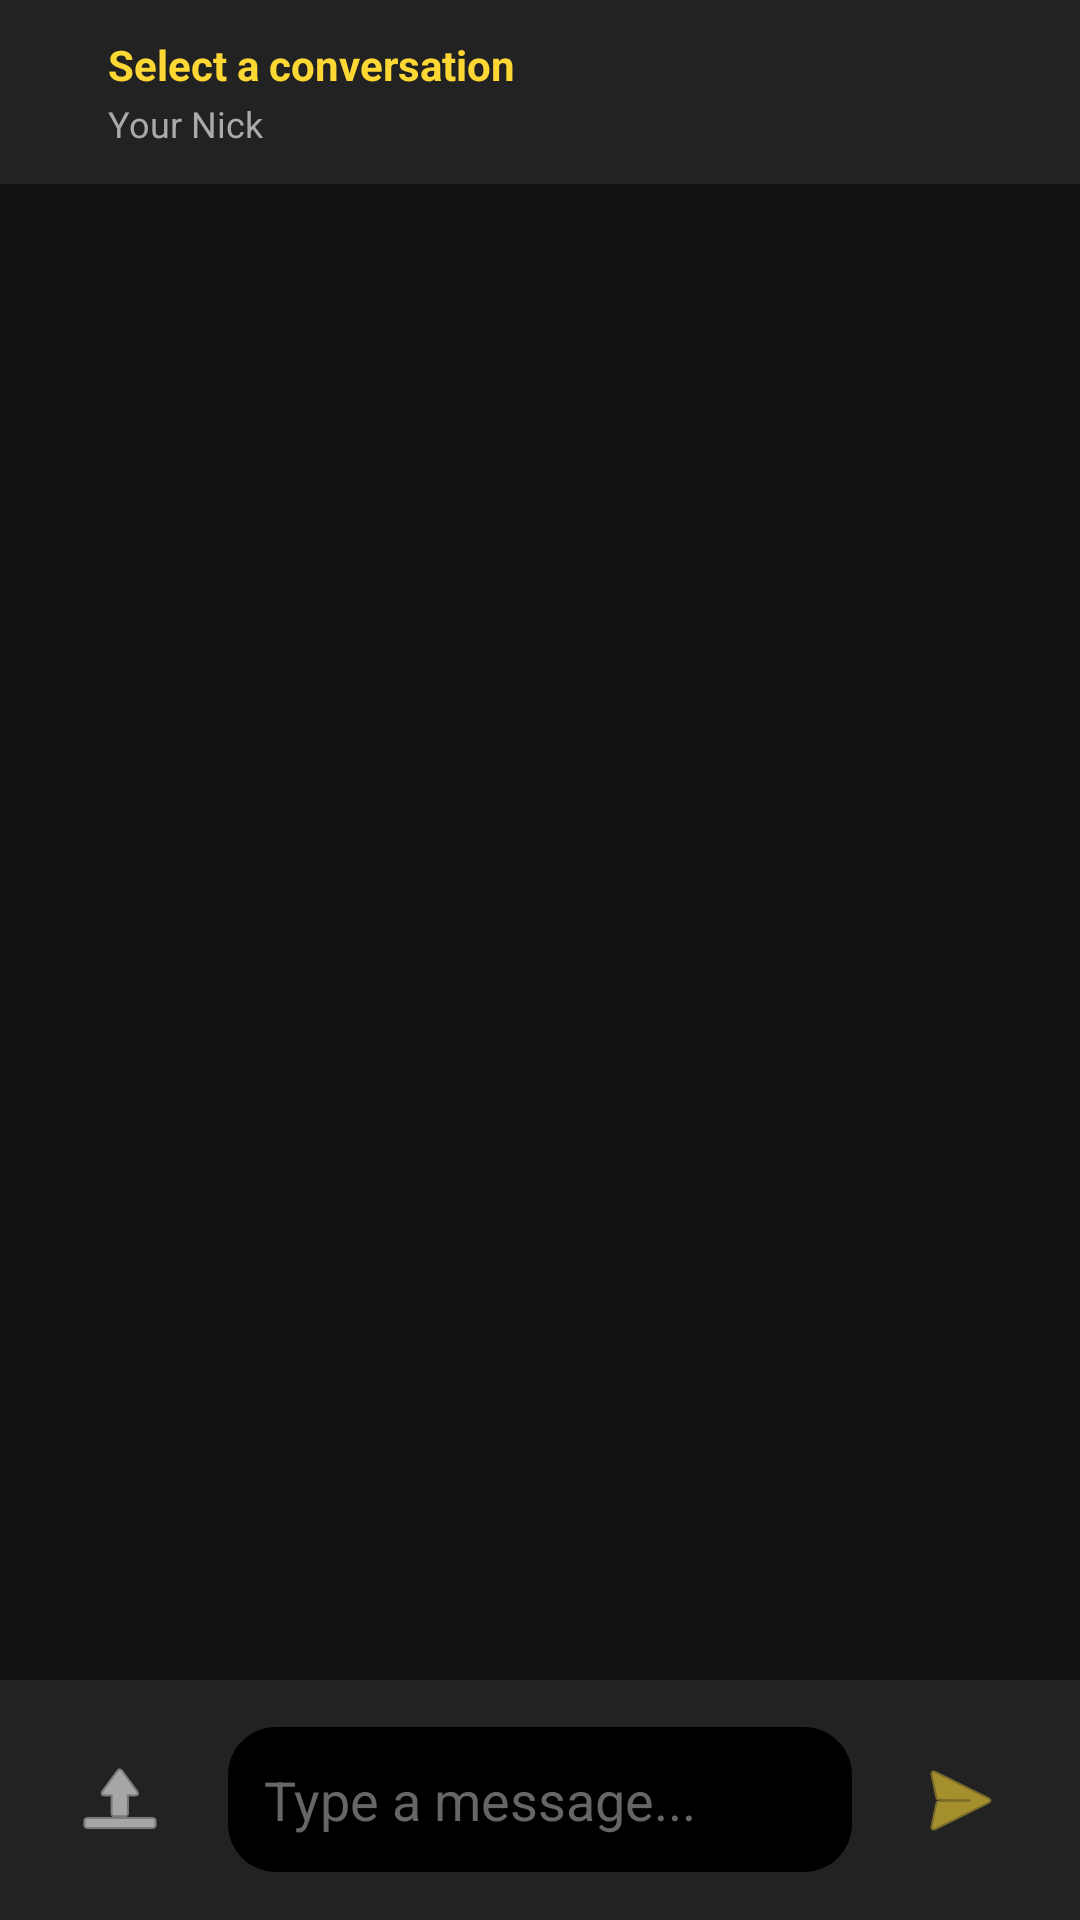

Icon bounding boxes for this 1080x1920 phone screenshot, format BBox(x1, y1, x2, y2):
Send Message: BBox(930, 1770, 992, 1831)
Upload Image: BBox(83, 1768, 157, 1829)
